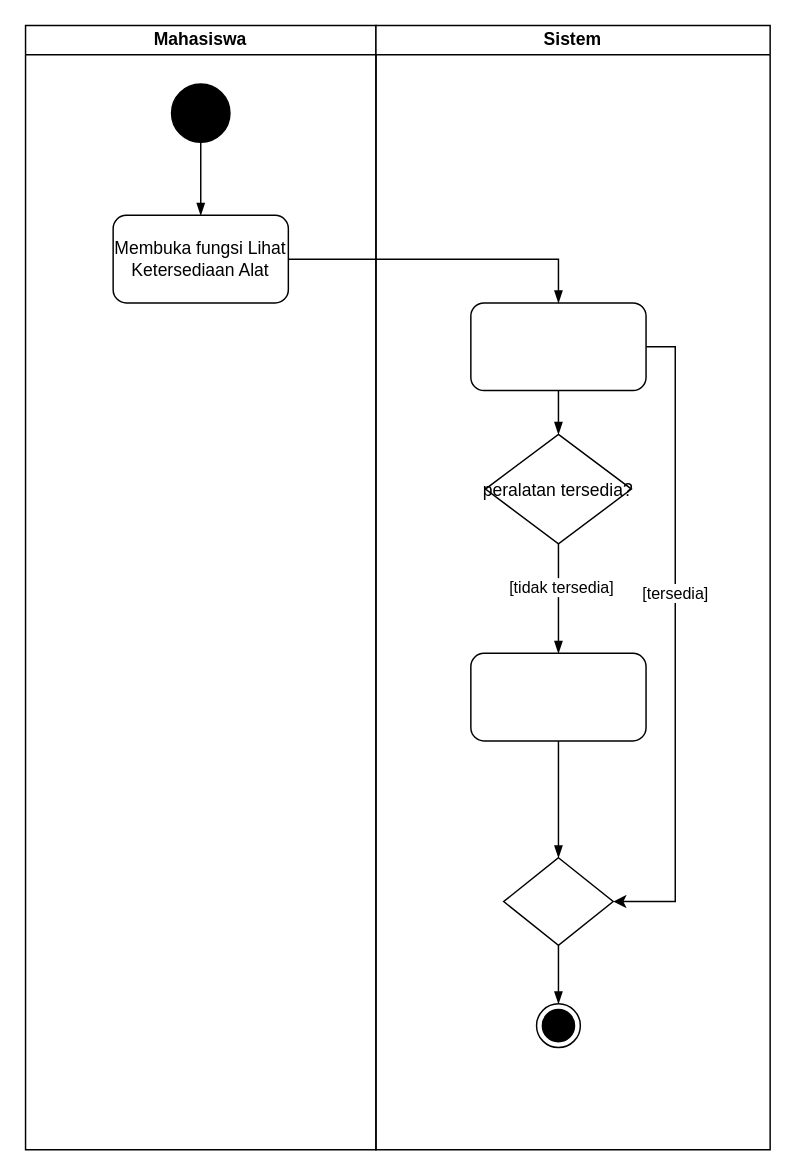
The diagram is 796 pixels wide and 1175 high, and some of its shapes have lost their labels. Each missing label, with the centre of its shape:
menampilkan daftar peralatan beserta status ketersediaan: the point at 557,346
menampilkan pesan tidak ada peralatan yang tersedia: the point at 557,696
